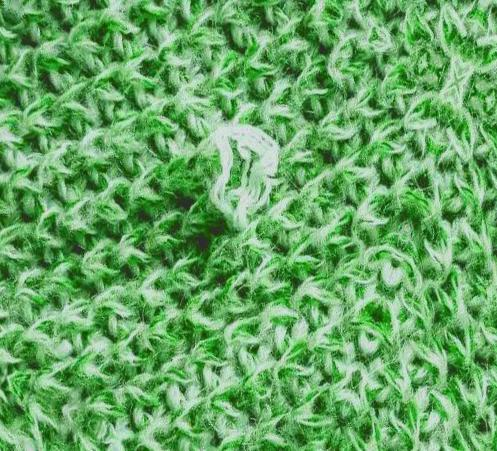snag: (202, 108, 287, 235)
